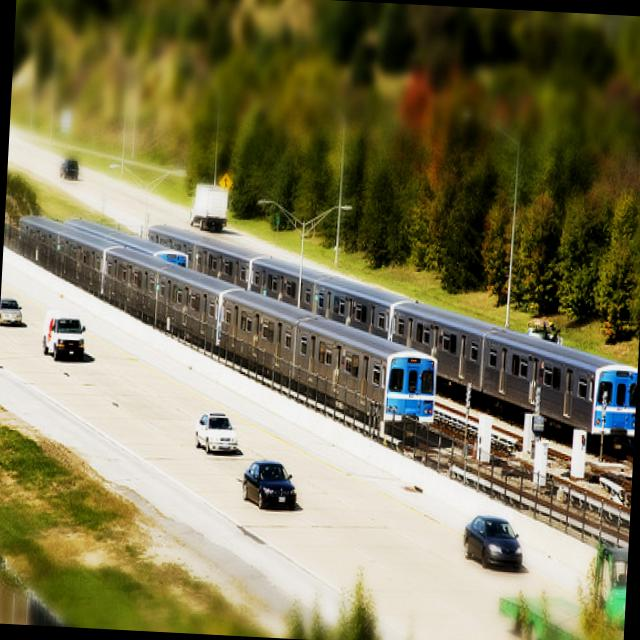Vehicle: (460, 518, 526, 572), (242, 460, 300, 511), (190, 403, 246, 453), (40, 306, 86, 361), (188, 182, 230, 235), (0, 297, 22, 326), (60, 158, 80, 180)
